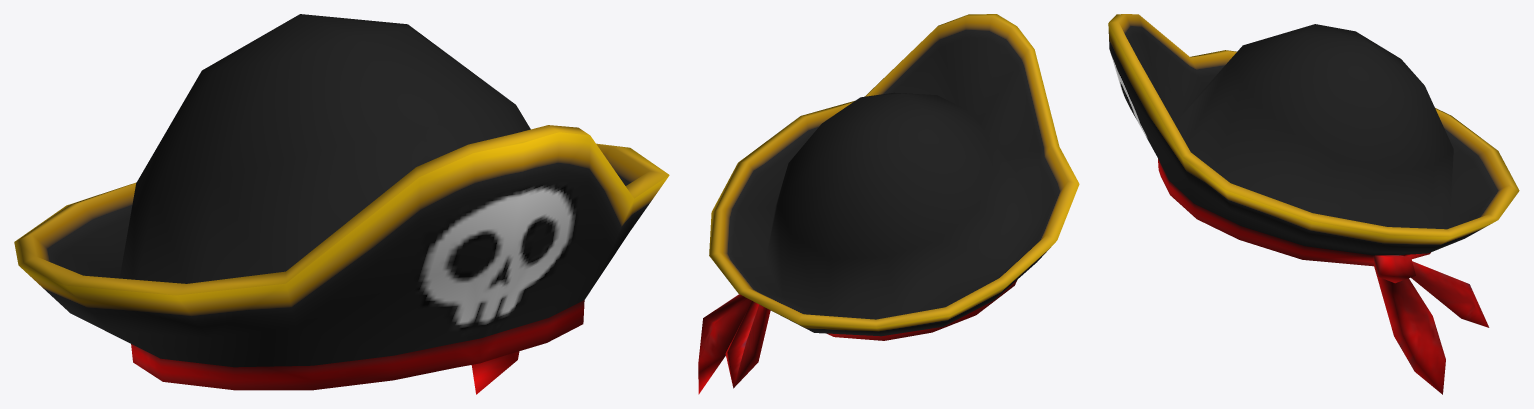
The model's file is hat_pirate_model.obj.
3 renders of one model, left to right at view 1: azimuth 30°, elevation 25°; view 2: azimuth 150°, elevation 25°; view 3: azimuth 270°, elevation 25°, orthographic. The views are drawn at different scales.
Parts seen in each view (by area): view 1: default; view 2: default; view 3: default.
Boxes of the visible parts, x1,y1,x2,y2 form: default: [14, 14, 669, 394]; default: [698, 14, 1079, 394]; default: [1108, 14, 1519, 394].
Size of the model in its own units: 89.54 by 79.33 by 97.03.
Materials: 1 (1 with a texture image).
